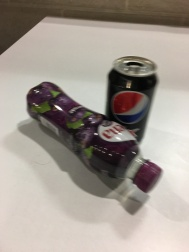bottle_purple: (19, 79, 165, 199)
can_black: (102, 45, 161, 131)
